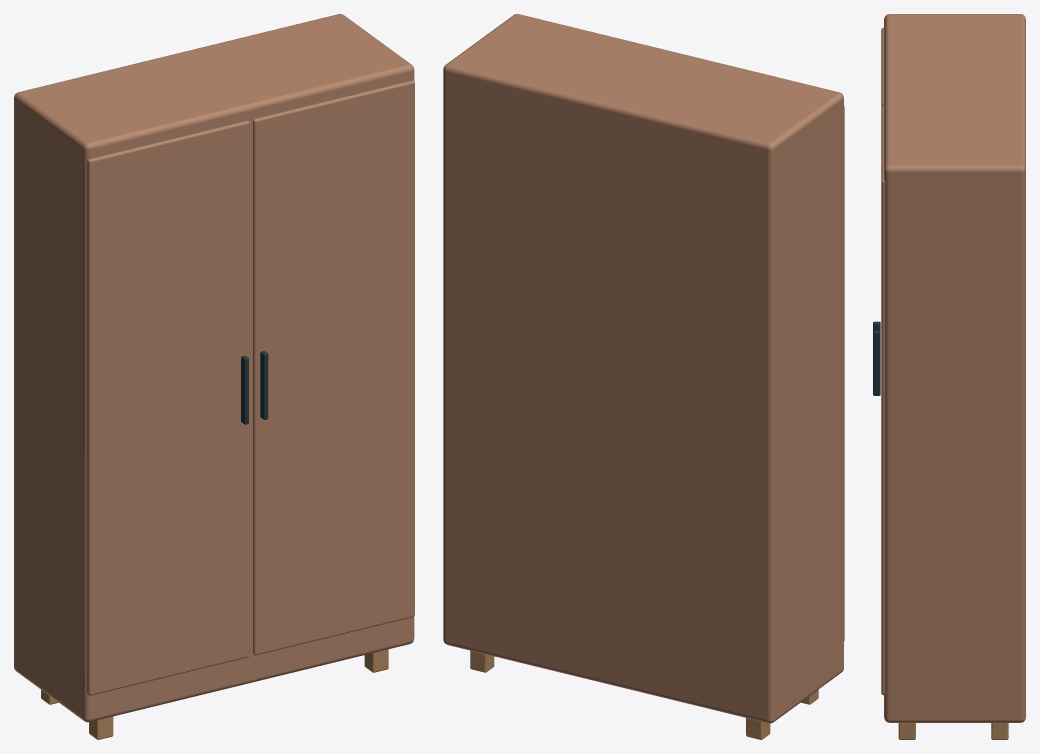
The model's file is cabinet.glb.
3 views of the same model, side by side, from view 1: azimuth 30°, elevation 25°; view 2: azimuth 150°, elevation 25°; view 3: azimuth 270°, elevation 25° (orthographic). The views are drawn at different scales.
Visible parts, largest first — view 1: poc-cabinet-part-36, poc-cabinet-part-38, poc-cabinet-part-35; view 2: poc-cabinet-part-35; view 3: poc-cabinet-part-35, poc-cabinet-part-38, poc-cabinet-part-39, poc-cabinet-part-42, poc-cabinet-part-43.
Part boxes in pixels (<box>): poc-cabinet-part-36: <box>87,121,249,695</box>; poc-cabinet-part-38: <box>253,80,414,655</box>; poc-cabinet-part-35: <box>14,14,414,722</box>; poc-cabinet-part-35: <box>443,14,843,723</box>; poc-cabinet-part-35: <box>884,14,1025,722</box>; poc-cabinet-part-38: <box>881,105,885,695</box>; poc-cabinet-part-39: <box>873,330,880,395</box>; poc-cabinet-part-42: <box>991,723,1008,739</box>; poc-cabinet-part-43: <box>898,723,915,739</box>.
Bounding box in the file's own units: 1.2 × 2.1 × 0.5.
